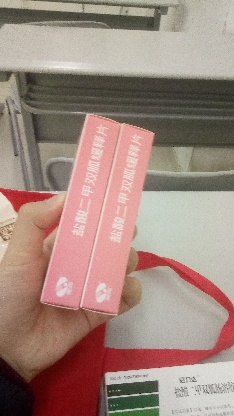pillbox: (41, 115, 119, 314), (86, 123, 156, 315), (95, 363, 225, 416)
